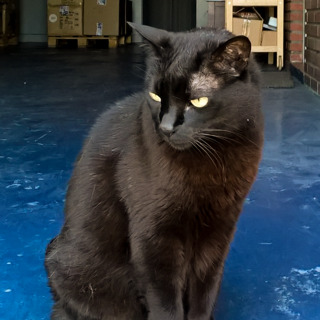gato: (85, 12, 276, 232)
